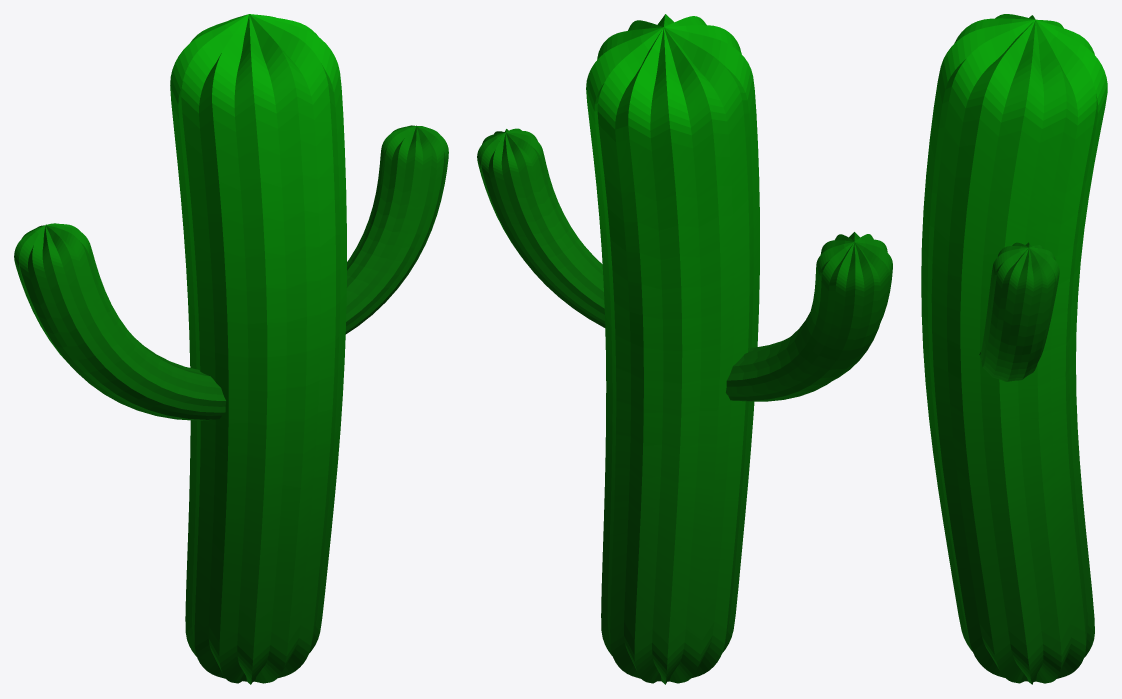
File: SM_Env_Cactus_01.fbx
3 views of the same model, side by side, from view 1: azimuth 30°, elevation 25°; view 2: azimuth 150°, elevation 25°; view 3: azimuth 270°, elevation 25° (orthographic).
Parts seen in each view (by area): view 1: captus1; view 2: captus1; view 3: captus1.
Part boxes in pixels (<box>): captus1: <box>14,14,448,684</box>; captus1: <box>477,14,892,684</box>; captus1: <box>921,14,1107,684</box>.
Bounding box in the file's own units: 1.66 × 2.5 × 0.6443.
Materials: 1 (1 with a texture image).
